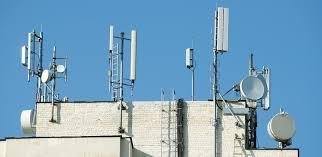Microwave Antenna: (237, 72, 264, 103), (16, 106, 35, 136), (41, 64, 51, 89), (55, 63, 70, 74)
antenna: (215, 3, 230, 53), (127, 30, 138, 80), (26, 29, 35, 71), (108, 25, 116, 52), (185, 45, 194, 68), (20, 43, 27, 65)
